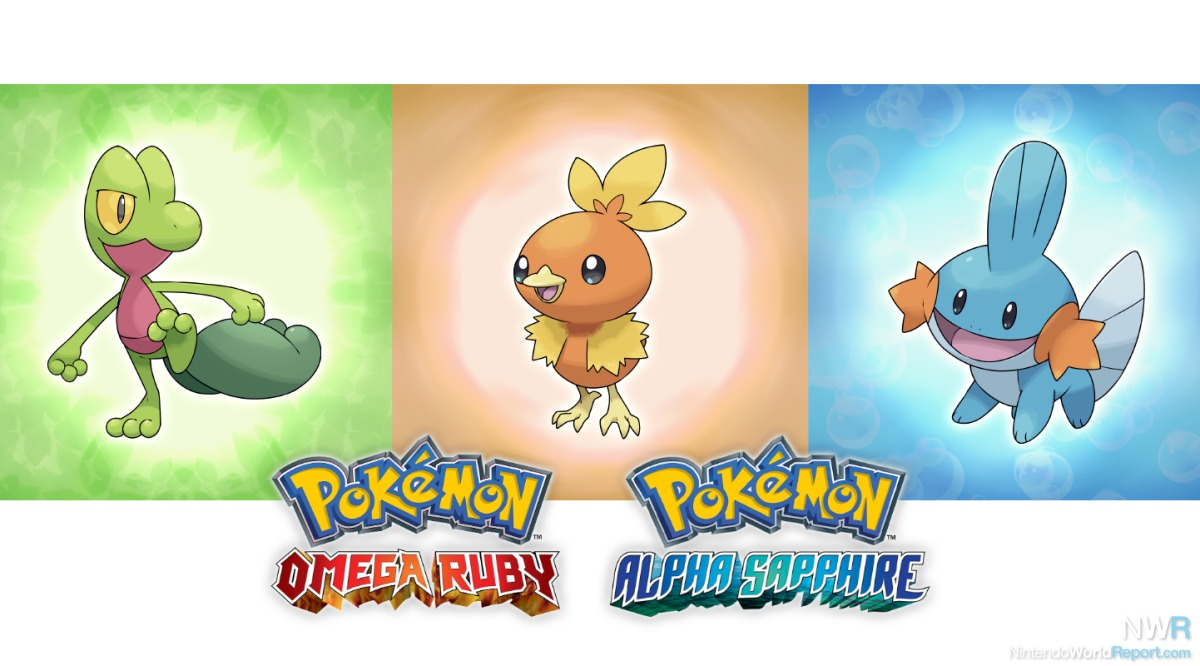mudkip: (863, 140, 1157, 449)
